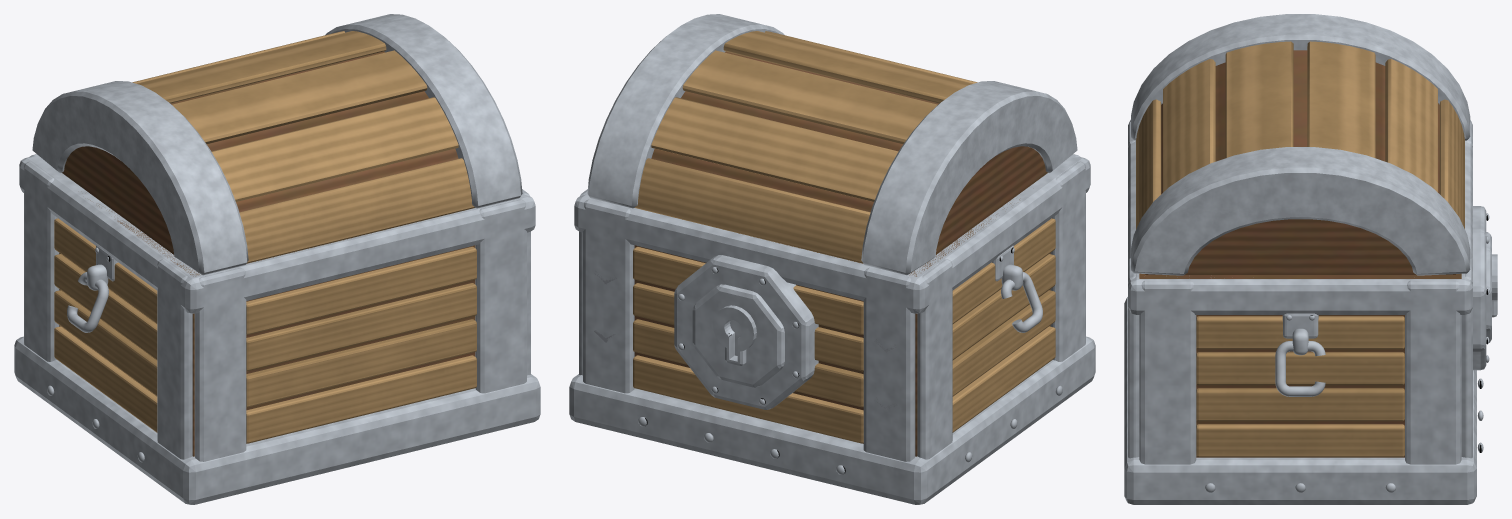
3 renders of one model, left to right at view 1: azimuth 30°, elevation 25°; view 2: azimuth 150°, elevation 25°; view 3: azimuth 270°, elevation 25°, orthographic.
Visible parts, largest first — view 1: Box_01_Body, Box_01_Lid; view 2: Box_01_Body, Box_01_Lid; view 3: Box_01_Body, Box_01_Lid.
Part boxes in pixels (box(x1,y1,x2,y2)): Box_01_Body: box(14, 154, 540, 504); Box_01_Lid: box(32, 14, 522, 275); Box_01_Body: box(569, 154, 1095, 504); Box_01_Lid: box(587, 14, 1077, 275); Box_01_Body: box(1124, 119, 1497, 504); Box_01_Lid: box(1131, 14, 1470, 275).
Size of the model in its own units: 2.45 by 1.93 by 1.97.
Materials: 2 (2 with a texture image).
